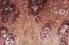plaque psoriasis: (0, 0, 20, 25), (26, 0, 47, 15), (38, 22, 53, 43), (0, 27, 17, 45), (56, 21, 69, 38), (55, 40, 69, 45)
